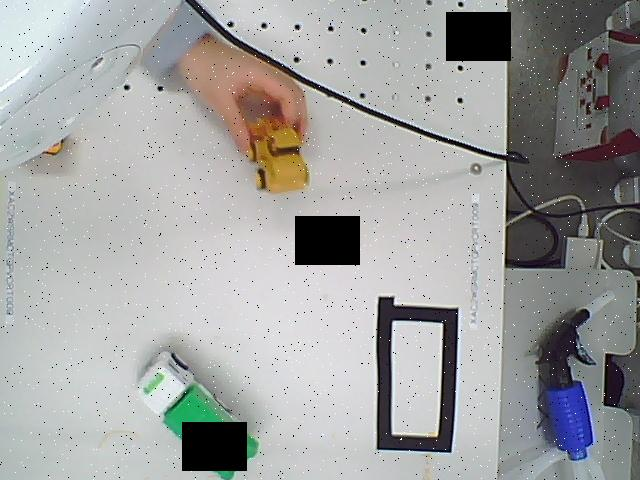Electric car: (129, 340, 254, 480)
Gasoline car: (241, 116, 326, 205)
